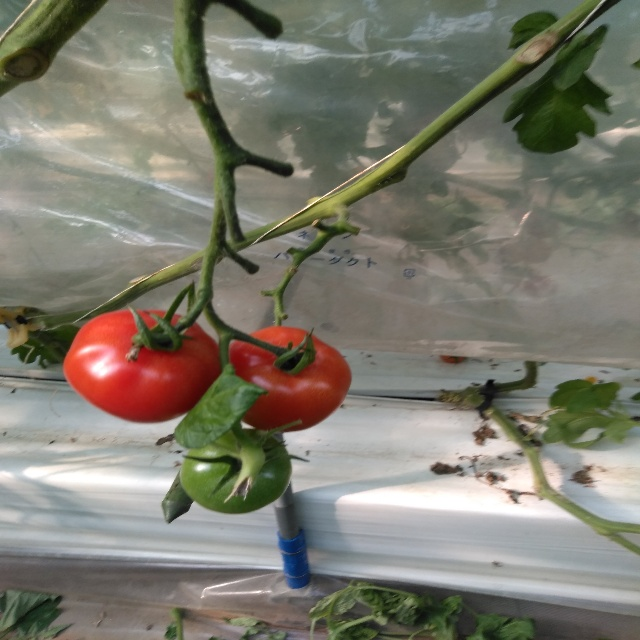l_fully_ripened: (63, 308, 226, 423), (222, 325, 352, 432)
l_green: (179, 429, 292, 514)
